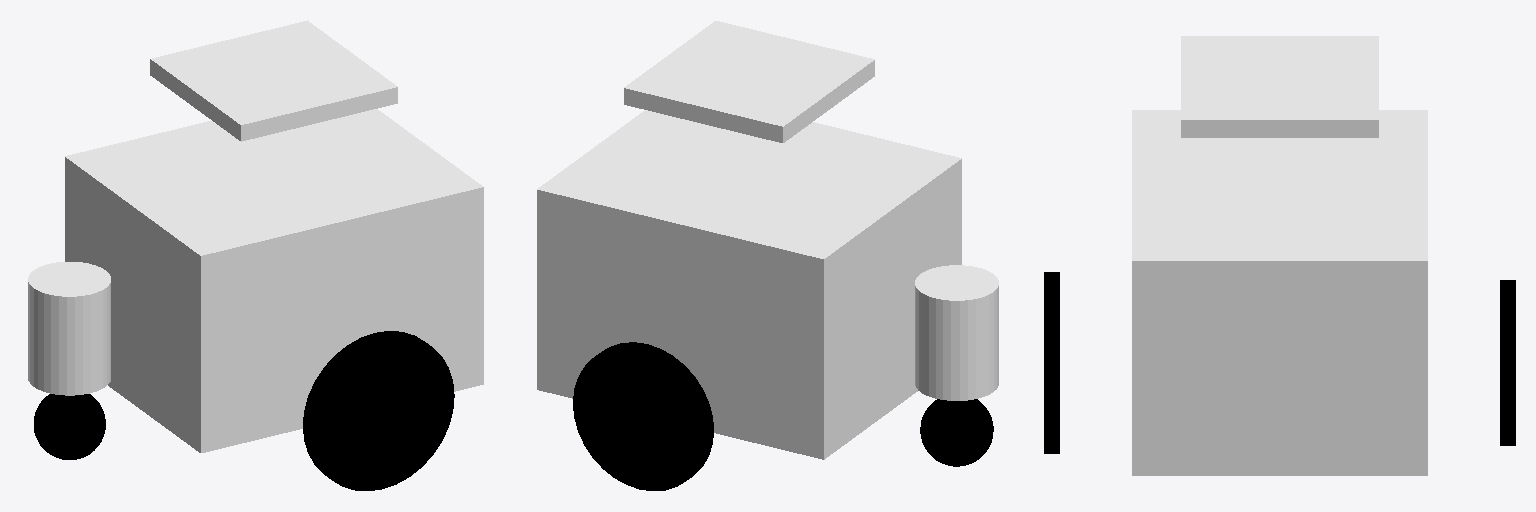
robot.urdf — test_robot:
<robot name="test_robot">
    <link name="base_link">
        <visual>
            <geometry>
                <box size="0.18 0.15 0.12"/>
            </geometry>
            <origin rpy="0 0 0" xyz="0 0 0.085"/>
            <material name="white">
                <color rgba="1 1 1 1"/>
            </material>
        </visual>
        <collision>
            <geometry>
                <box size="0.16 0.16 0.12"/>
            </geometry>
            <origin rpy="0 0 0" xyz="0 0 0.085"/>
        </collision>
    </link>

    <link name="left_wheel">
        <visual>
            <geometry>
                <cylinder length="0.008" radius="0.042"/>
            </geometry>
            <origin rpy="0 0 0" xyz="0 0 0"/>
            <material name="black">
                <color rgba="0 0 0 1"/>
            </material>
        </visual>
        <collision>
            <geometry>
                <cylinder length="0.008" radius="0.042"/>
            </geometry>
            <origin rpy="0 0 0" xyz="0 0 0"/>
        </collision>
    </link>

    <joint name="base_to_left_wheel" type="continuous">
        <parent link="base_link"/>
        <child link="left_wheel"/>
        <origin xyz="0 0.115 0.046" rpy="1.5708 0 0"/>
        <axis xyz="0 0 1"/>
    </joint>

    <link name="right_wheel">
        <visual>
            <geometry>
                <cylinder length="0.008" radius="0.046"/>
            </geometry>
            <origin rpy="0 0 0" xyz="0 0 0"/>
            <material name="black">
                <color rgba="0 0 0 1"/>
            </material>
        </visual>
        <collision>
            <geometry>
                <cylinder length="0.008" radius="0.046"/>
            </geometry>
            <origin rpy="0 0 0" xyz="0 0 0"/>
        </collision>
    </link>

    <joint name="base_to_right_wheel" type="continuous">
        <parent link="base_link"/>
        <child link="right_wheel"/>
        <origin xyz="0 -0.115 0.046" rpy="-1.5708 0 0"/>
        <axis xyz="0 0 1"/>
    </joint>

    <link name="front_wheel_attach">
        <visual>
            <geometry>
                <cylinder length="0.060" radius="0.023"/>
            </geometry>
            <origin rpy="0 0 0" xyz="-0.13 0 0.08"/>
            <material name="white">
                <color rgba="1 1 1 1"/>
            </material>
        </visual>
    </link>

    <joint name="base_to_front_attach" type="fixed">
        <parent link="base_link"/>
        <child link="front_wheel_attach"/>
        <origin xyz="0 0 0" rpy="0 0 0"/>
    </joint>

    <link name="front_wheel">
        <visual>
            <geometry>
                <sphere radius="0.020"/>
            </geometry>
            <origin rpy="1.578 0 0" xyz="0 0 0"/>
            <material name="black">
                <color rgba="0 0 0 1"/>
            </material>
        </visual>
        <collision>
            <geometry>
                <sphere radius="0.020"/>
            </geometry>
            <origin rpy="1.578 0 0" xyz="0 0 0"/>
        </collision>
    </link>

    <joint name="base_to_front_wheel" type="fixed">
        <parent link="base_link"/>
        <child link="front_wheel"/>
        <origin xyz="-0.13 0 0.022" rpy="0 0 0"/>
    </joint>

    <link name="aruco_tag">
        <visual>
            <geometry>
                <mesh filename="aruco_0.obj"/>
            </geometry>
            <material name="white">
                <color rgba="1 1 1 1"/>
            </material>
        </visual>
    </link>

    <joint name="base_to_aruco_tag" type="fixed">
        <parent link="base_link"/>
        <child link="aruco_tag"/>
        <origin xyz="0 0 0.2" rpy="0 0 0"/>
    </joint>
</robot>

--- Facts derived from the render (not from the file) ---
Views: 3 orthographic renders of the robot side by side, from view 1: azimuth 30°, elevation 25°; view 2: azimuth 150°, elevation 25°; view 3: azimuth 270°, elevation 25°.
Model test_robot with 6 links and 5 joints (2 continuous, 3 fixed), rooted at base_link, posed every joint at zero.
Links seen in each view (by area): view 1: base_link, right_wheel, aruco_tag, front_wheel_attach, front_wheel; view 2: base_link, aruco_tag, left_wheel, front_wheel_attach, front_wheel; view 3: base_link, aruco_tag, right_wheel, left_wheel.
Link boxes in pixels (bbox=[...]): base_link: bbox=[65, 109, 483, 452]; right_wheel: bbox=[303, 331, 454, 490]; aruco_tag: bbox=[150, 20, 397, 141]; front_wheel_attach: bbox=[28, 262, 110, 395]; front_wheel: bbox=[34, 394, 105, 459]; base_link: bbox=[537, 110, 961, 459]; aruco_tag: bbox=[624, 21, 874, 142]; left_wheel: bbox=[573, 342, 713, 490]; front_wheel_attach: bbox=[915, 265, 998, 400]; front_wheel: bbox=[920, 399, 993, 466]; base_link: bbox=[1132, 110, 1427, 475]; aruco_tag: bbox=[1181, 36, 1378, 137]; right_wheel: bbox=[1044, 272, 1059, 453]; left_wheel: bbox=[1500, 280, 1515, 445].
Size in the robot's own frame: 0.243 by 0.238 by 0.205 metres.
Meshes: 1 distinct files referenced, 1 mesh visuals loaded (1 OBJ).